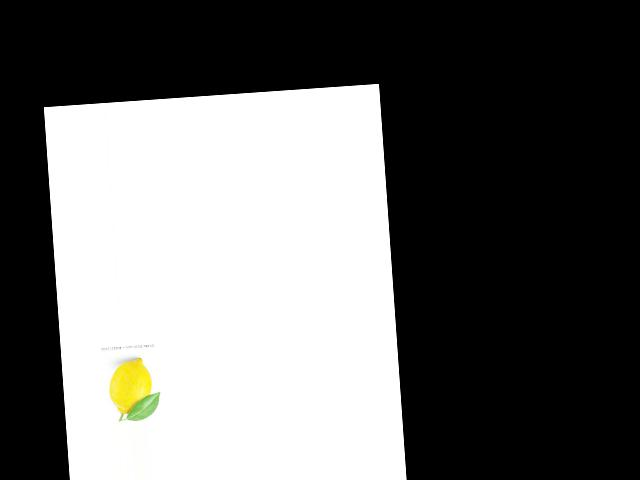lemon: (105, 356, 159, 417)
